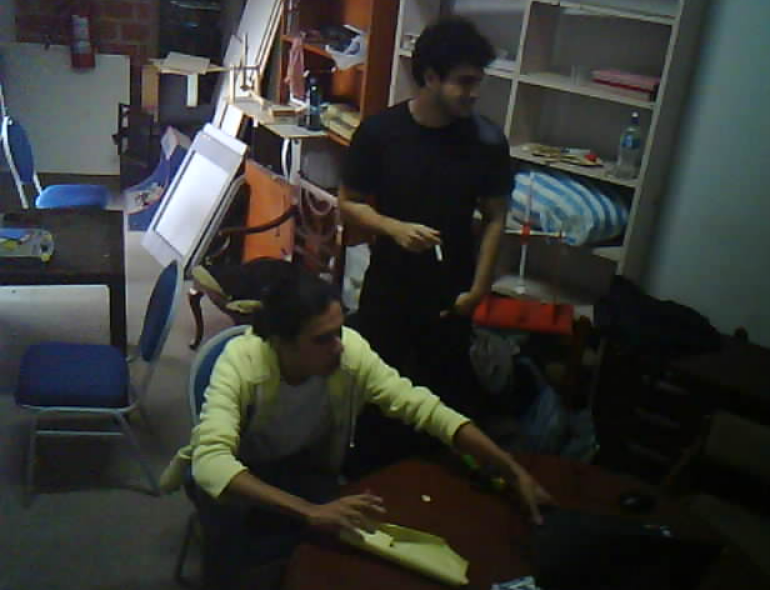person: (183, 267, 545, 590), (340, 15, 533, 330)
